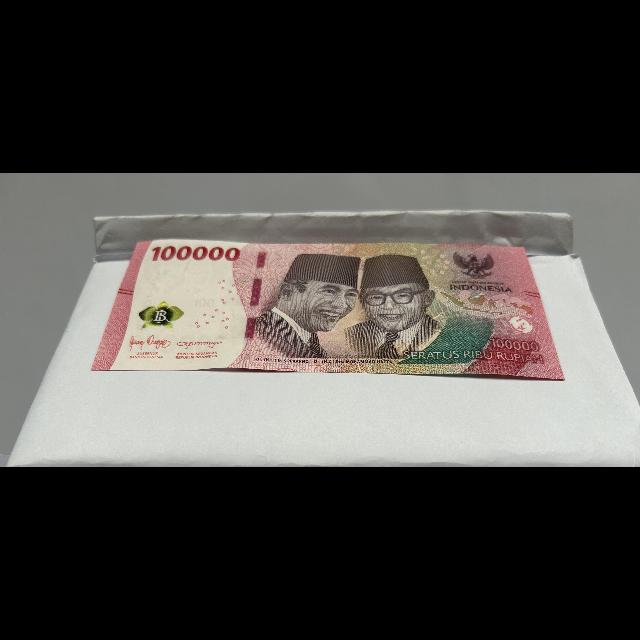Asli-100k: (86, 237, 570, 383)
Tinta-Asli-100k: (136, 299, 190, 332)
